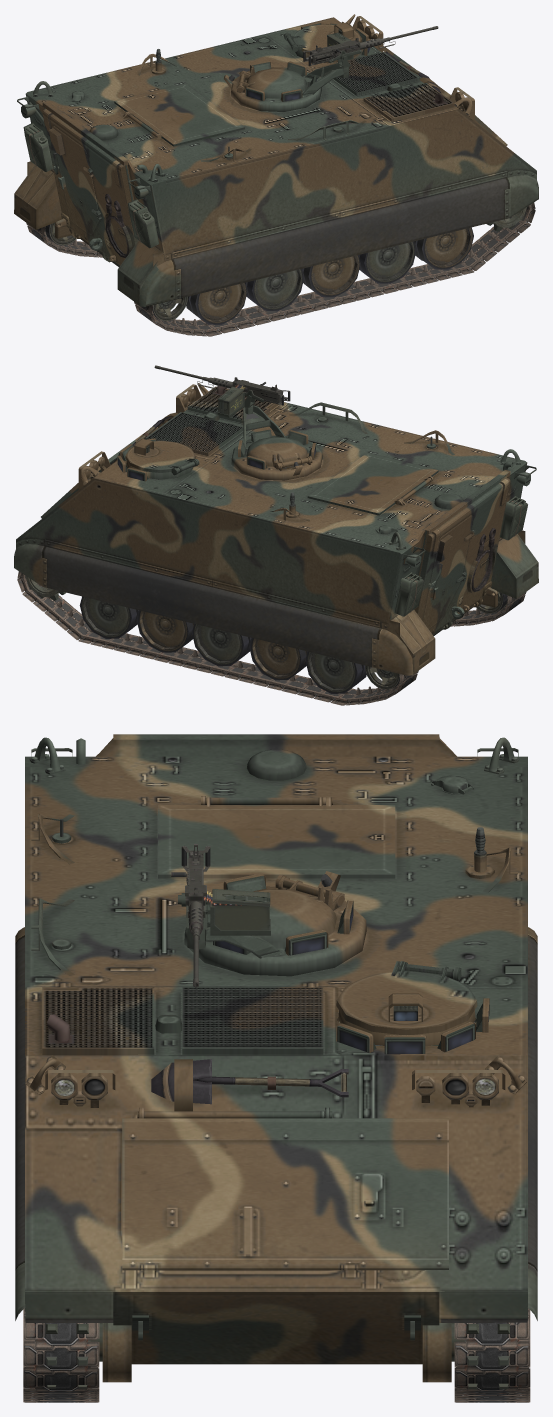
3 views of the same model, one above another, from view 1: azimuth 30°, elevation 25°; view 2: azimuth 150°, elevation 25°; view 3: azimuth 270°, elevation 25° (orthographic). The views are drawn at different scales.
Parts seen in each view (by area): view 1: hull, skirt, track2, things, hatch3, hatch4, back mudguard, hatch5, mount, object505_m113a1_hull_0_0, weapon, hatch2 (+18 smaller); view 2: hull, skirt, track, hatch3, hatch4, things, back mudguard, mount, hatch5, hatch, object505_m113a1_hull_0_0, weapon (+19 smaller); view 3: hull, object07_m113a1_hull_0_0, things, hatch3, mount, hatch, skirt, object505_m113a1_hull_0_0, track2, track, weapon, object05_m113a1_hull_0_0 (+5 smaller).
Boxes of the visible parts, left/top/right/bottom form: hull: left=25, top=17, right=536, bottom=266; skirt: left=14, top=175, right=538, bottom=306; track2: left=134, top=202, right=535, bottom=336; things: left=321, top=16, right=474, bottom=121; hatch3: left=114, top=84, right=244, bottom=146; hatch4: left=42, top=109, right=138, bottom=265; back mudguard: left=14, top=161, right=165, bottom=305; hatch5: left=48, top=126, right=100, bottom=234; mount: left=224, top=61, right=348, bottom=111; object505_m113a1_hull_0_0: left=33, top=49, right=366, bottom=182; weapon: left=303, top=26, right=438, bottom=66; hatch2: left=238, top=66, right=306, bottom=98; hull: left=16, top=388, right=527, bottom=635; skirt: left=14, top=544, right=538, bottom=675; track: left=17, top=571, right=418, bottom=705; hatch3: left=307, top=453, right=438, bottom=515; hatch4: left=414, top=478, right=510, bottom=634; things: left=78, top=384, right=278, bottom=489; back mudguard: left=387, top=530, right=538, bottom=674; mount: left=231, top=405, right=322, bottom=480; hatch5: left=423, top=515, right=474, bottom=628; hatch: left=125, top=438, right=199, bottom=475; object505_m113a1_hull_0_0: left=270, top=402, right=520, bottom=550; weapon: left=154, top=365, right=290, bottom=417; hull: left=25, top=734, right=527, bottom=1364; object07_m113a1_hull_0_0: left=122, top=1118, right=448, bottom=1270; things: left=42, top=987, right=505, bottom=1107; hatch3: left=158, top=796, right=395, bottom=878; mount: left=184, top=871, right=366, bottom=976; hatch: left=336, top=961, right=477, bottom=1034; skirt: left=15, top=927, right=537, bottom=1320; object505_m113a1_hull_0_0: left=29, top=737, right=519, bottom=975; track2: left=23, top=1308, right=99, bottom=1402; track: left=454, top=1308, right=530, bottom=1402; weapon: left=171, top=844, right=270, bottom=987; object05_m113a1_hull_0_0: left=102, top=1315, right=451, bottom=1382.
Size of the model in its own units: 4.74 by 2.53 by 2.69.
Materials: 7 (7 with a texture image).
